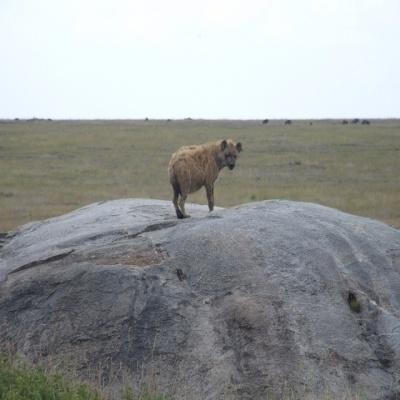hyenas: (150, 126, 257, 229)
